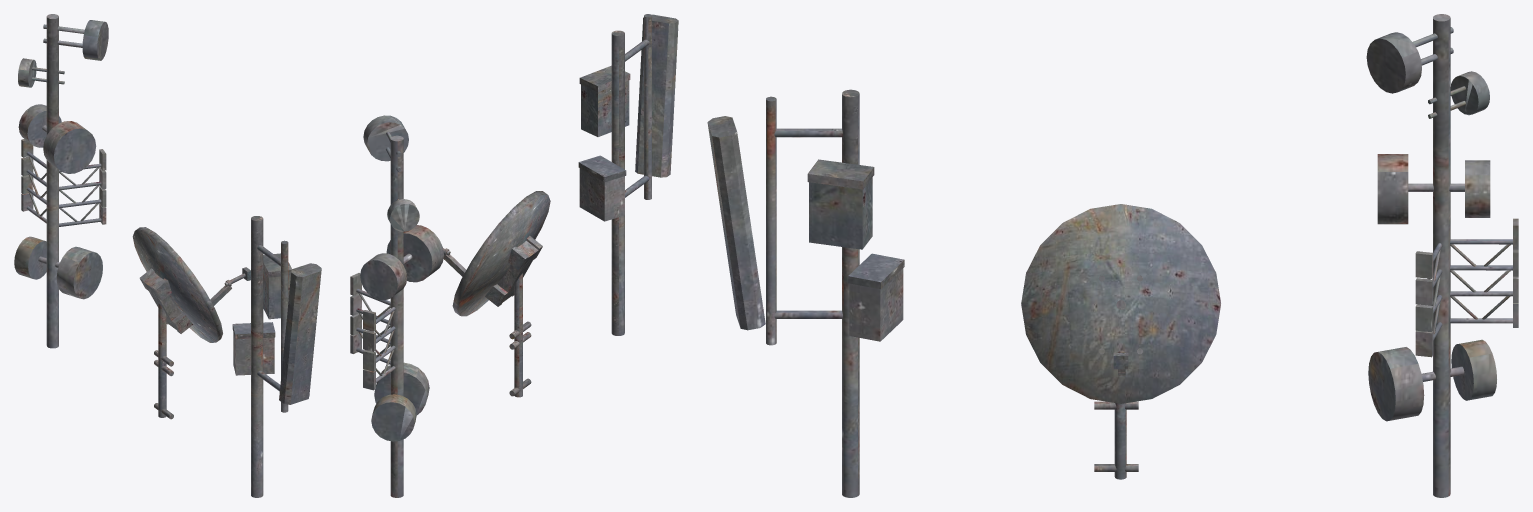
Rendered from antennas.glb.
3 views of the same model, side by side, from view 1: azimuth 30°, elevation 25°; view 2: azimuth 150°, elevation 25°; view 3: azimuth 270°, elevation 25° (orthographic). The views are drawn at different scales.
Parts seen in each view (by area): view 1: antennas; view 2: antennas; view 3: antennas.
Boxes of the visible parts, x1,y1,x2,y2 form: antennas: (14,14,321,497); antennas: (350,14,678,497); antennas: (707,14,1518,497).
Bounding box in the file's own units: 0.7916 × 2.2 × 3.39.
Materials: 1 (1 with a texture image).
